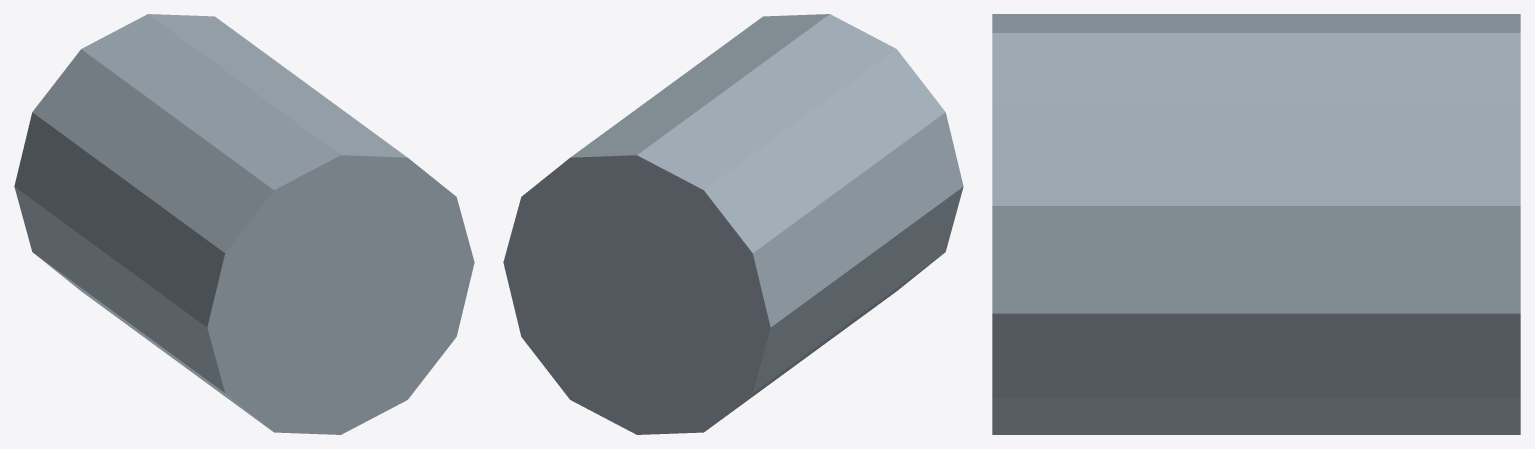
Rendered from hull_segment_b.glb.
3 renders of one model, left to right at view 1: azimuth 30°, elevation 25°; view 2: azimuth 150°, elevation 25°; view 3: azimuth 270°, elevation 25°, orthographic. The views are drawn at different scales.
Visible parts, largest first — view 1: hull_segment_b-convcol; view 2: hull_segment_b-convcol; view 3: hull_segment_b-convcol.
Boxes of the visible parts, bbox=[...] form: hull_segment_b-convcol: bbox=[14, 14, 474, 434]; hull_segment_b-convcol: bbox=[503, 14, 963, 434]; hull_segment_b-convcol: bbox=[992, 14, 1520, 434].
Bounding box in the file's own units: 1.6 × 1.6 × 2.
